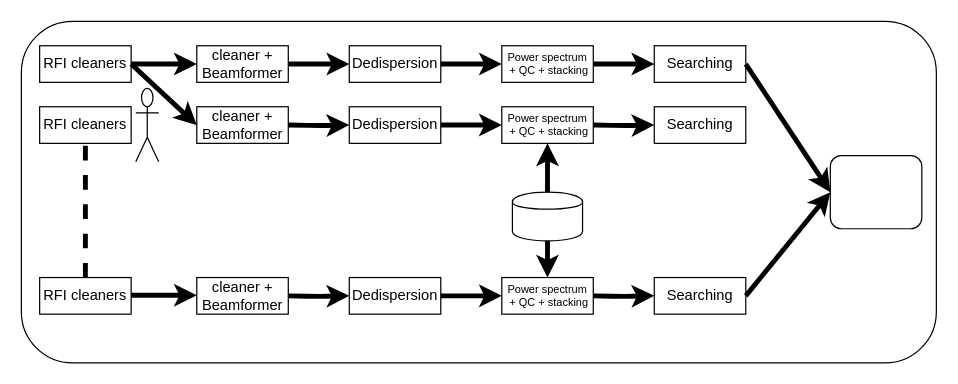
Some shapes in this 958 by 384 pixel diagram are drawn without their labels. Each missing label, with the box of its shape:
Candidate processor: (829, 154, 922, 229)
cumulative stack: (511, 191, 583, 241)
Pointing Strategist: (135, 87, 159, 162)
